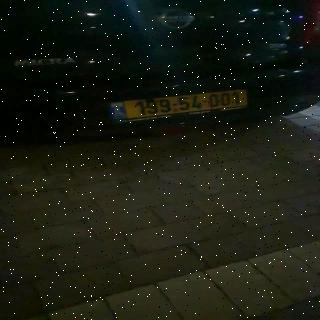LicensePlate: (125, 89, 248, 118)
